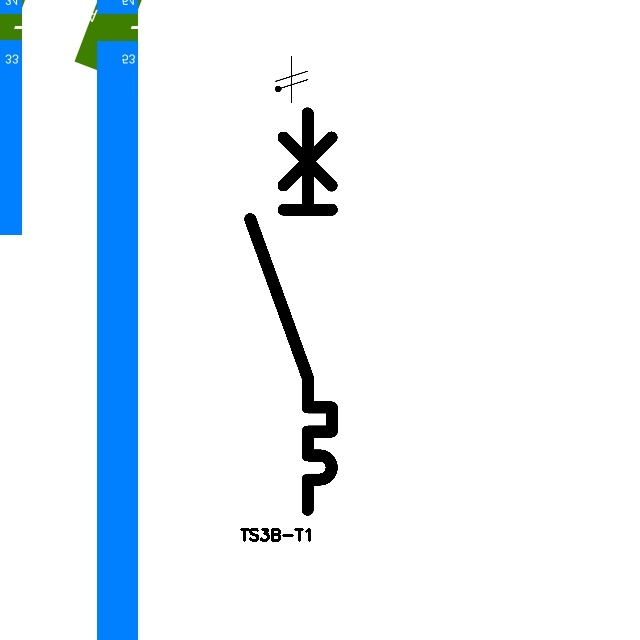interruptor_termomagnetico: (240, 103, 342, 520)
